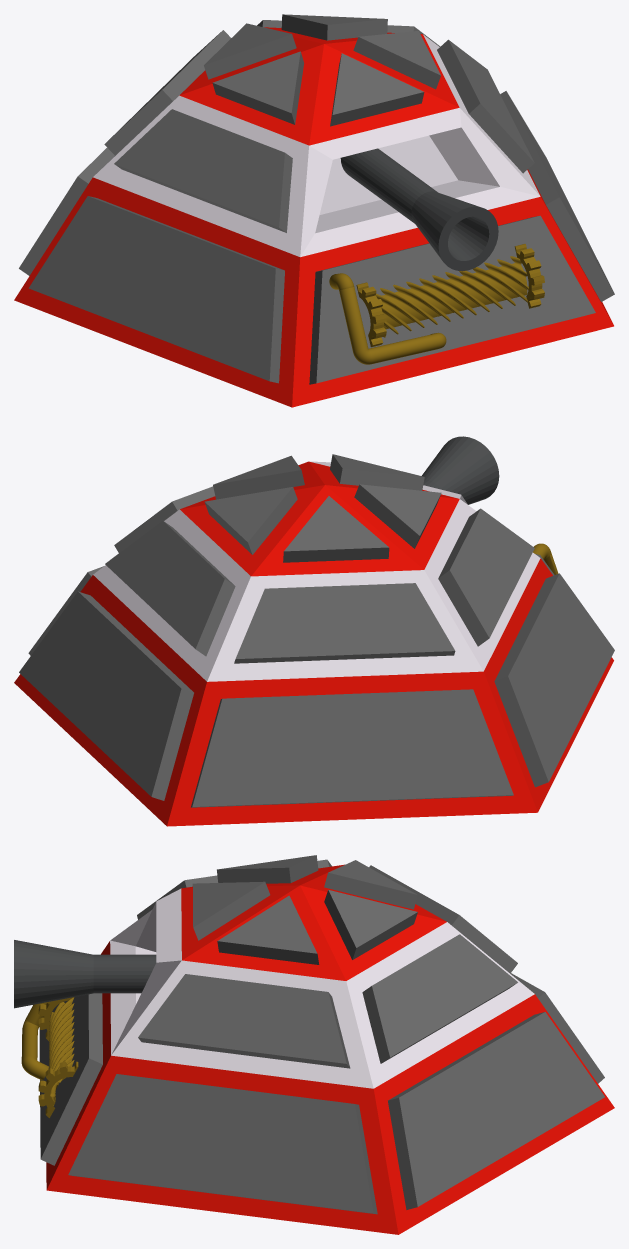
File: Model_Defender_Short_FullUpgrade.fbx
The picture shows the model from 3 angles, top to bottom: view 1: azimuth 30°, elevation 25°; view 2: azimuth 150°, elevation 25°; view 3: azimuth 270°, elevation 25°; orthographic projection.
Visible parts, largest first — view 1: Icosphere, Speedgear, Cylinder, Speedpipe; view 2: Icosphere, Cylinder; view 3: Icosphere, Cylinder, Speedgear, Speedpipe.
Boxes of the visible parts, x1,y1,x2,y2 form: Icosphere: (14, 14, 614, 407); Speedgear: (356, 244, 544, 347); Cylinder: (340, 148, 498, 271); Speedpipe: (329, 273, 446, 364); Icosphere: (14, 454, 614, 826); Cylinder: (422, 436, 499, 504); Icosphere: (39, 855, 614, 1234); Cylinder: (14, 940, 156, 1008); Speedgear: (38, 997, 78, 1117); Speedpipe: (21, 1002, 48, 1080).
Bounding box in the file's own units: 214 × 91.9 × 215.
